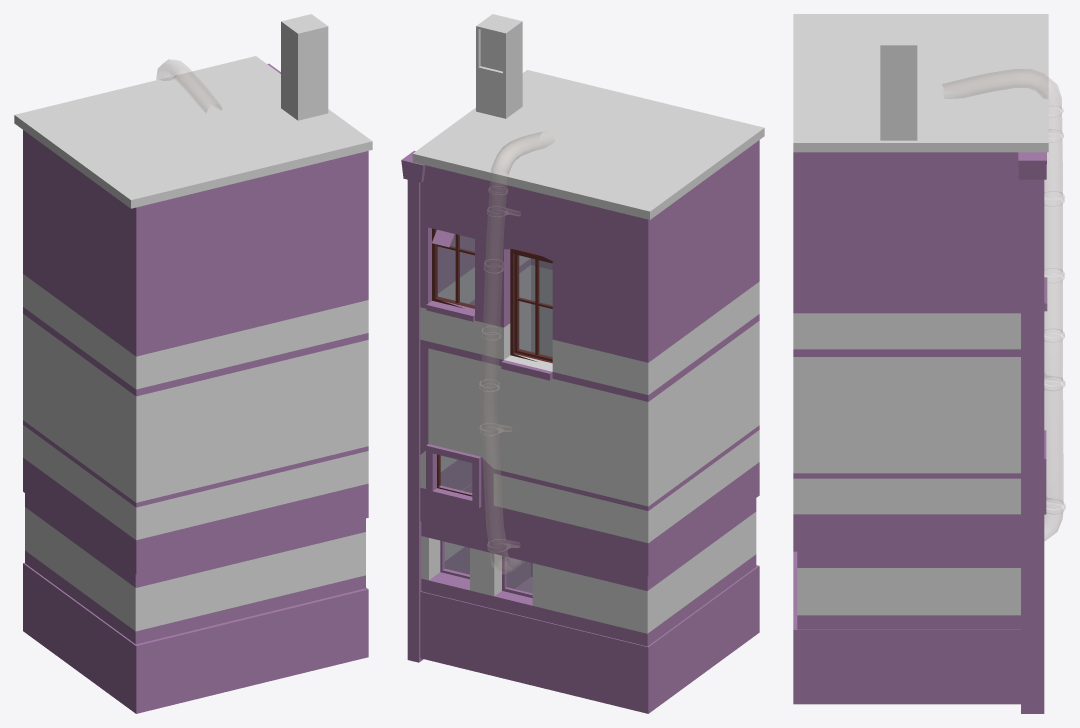
Rendered from building_2.fbx.
3 renders of one model, left to right at view 1: azimuth 30°, elevation 25°; view 2: azimuth 150°, elevation 25°; view 3: azimuth 270°, elevation 25°, orthographic. The views are drawn at different scales.
Parts seen in each view (by area): view 1: building2.002; view 2: building2.002; view 3: building2.002.
Part boxes in pixels (bbox=[...]): building2.002: bbox=[14, 14, 372, 713]; building2.002: bbox=[401, 14, 764, 713]; building2.002: bbox=[793, 14, 1065, 713].
Size of the model in its own units: 1657 by 3775 by 1406.
